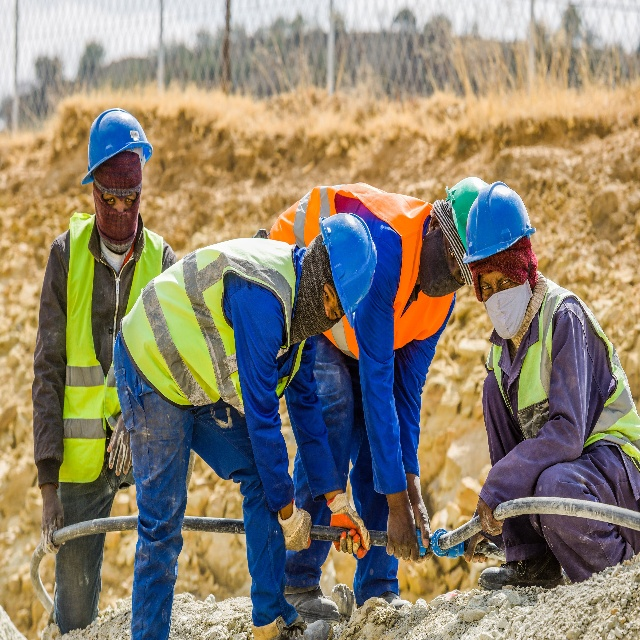Guantes: (326, 490, 371, 560), (277, 497, 312, 553)
Mascara: (483, 248, 534, 339), (419, 226, 464, 297)
Sin_guantes: (386, 502, 420, 563), (107, 412, 133, 475), (40, 495, 65, 557), (411, 498, 433, 563), (476, 497, 505, 537), (464, 532, 490, 564)
